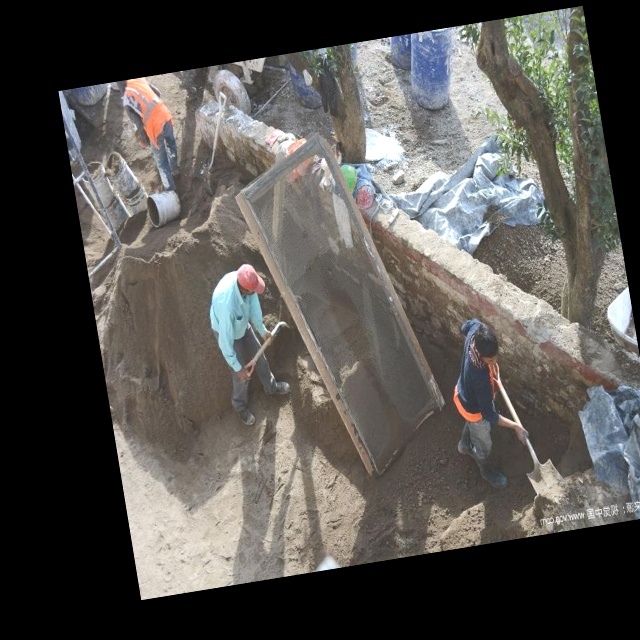Sin_Casco_Mascarrilla: (472, 322, 503, 366), (237, 260, 267, 302)
